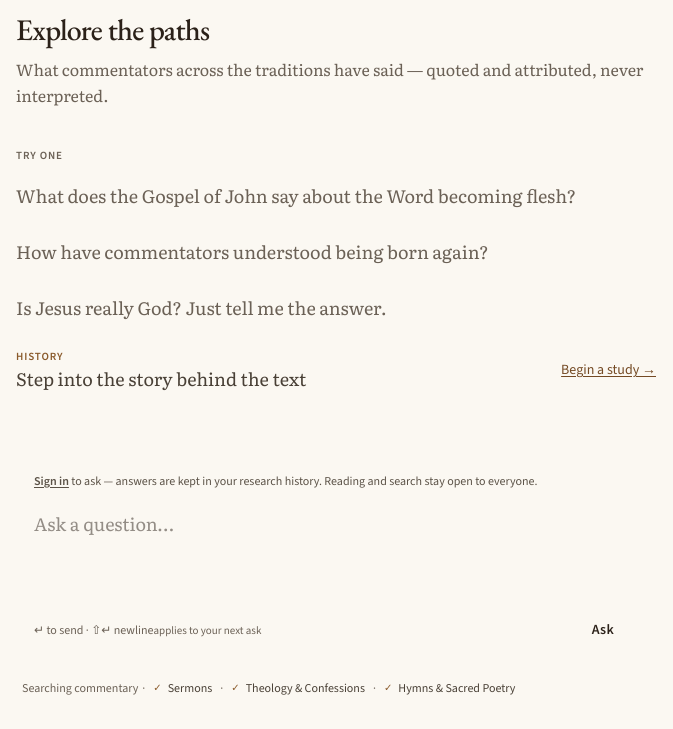
Test: A017 — the error banner always carries a message › an error event with no message field still renders a message, not a bare frame
Type "What is grace?" into the text box with placeholder "Ask a question…" at [336, 552], box x1=28 y1=507 x2=644 y2=597
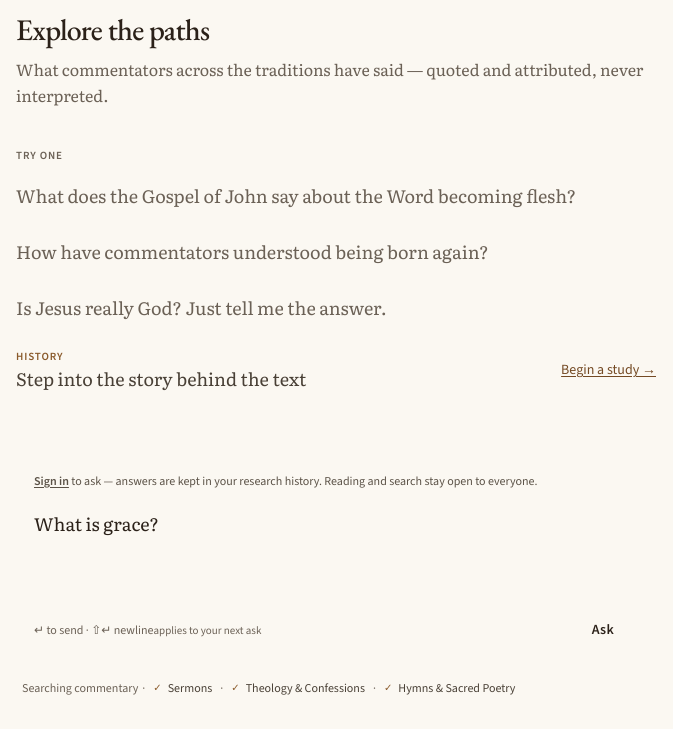
Submit the form with placeholder "Ask a question", box x1=16 y1=460 x2=656 y2=712
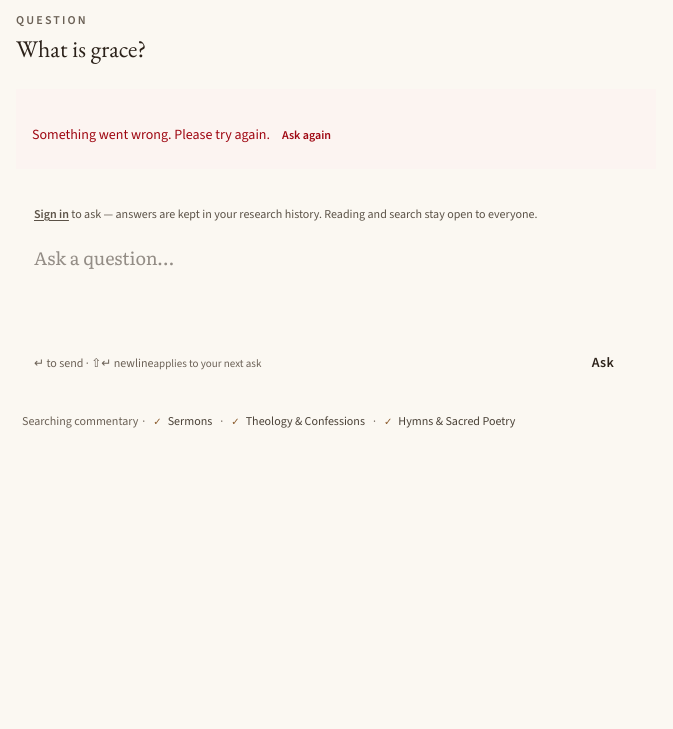
Check: the button "Ask again" is shown, box x1=270 y1=113 x2=343 y2=157
